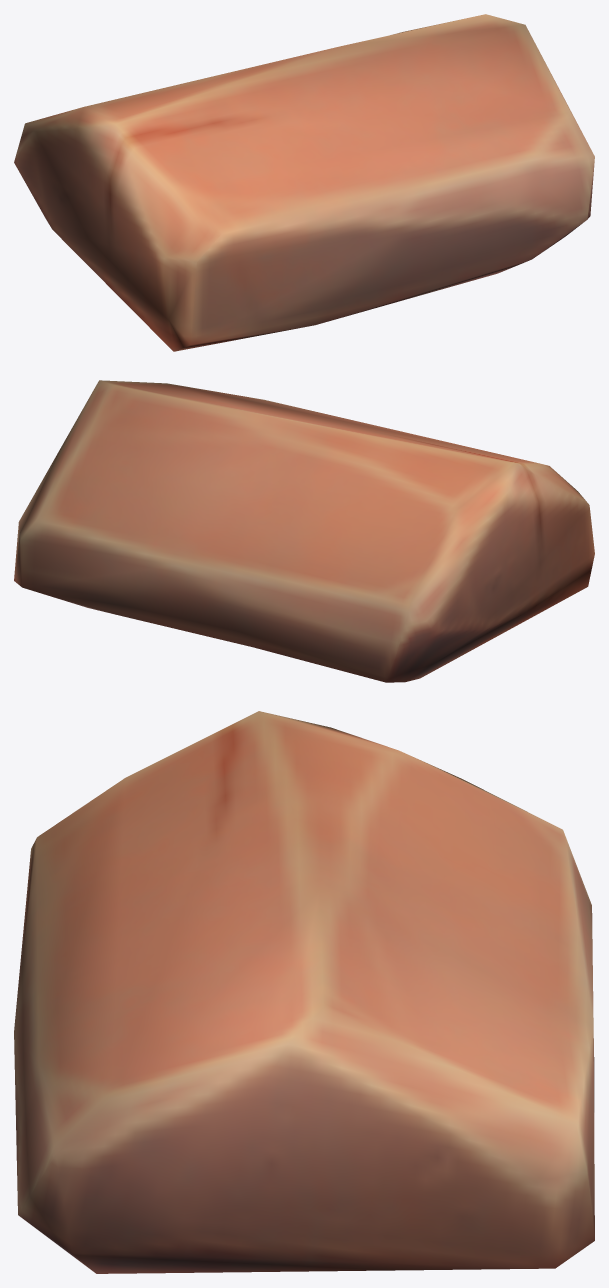
Rendered from SM_Gem_Copper_Piece.fbx.
3 renders of one model, top to bottom at view 1: azimuth 30°, elevation 25°; view 2: azimuth 150°, elevation 25°; view 3: azimuth 270°, elevation 25°, orthographic. The views are drawn at different scales.
Parts seen in each view (by area): view 1: SM_Gem_Copper_Piece; view 2: SM_Gem_Copper_Piece; view 3: SM_Gem_Copper_Piece.
Part boxes in pixels (x1,y1,x2,y2): SM_Gem_Copper_Piece: (14,14,594,351); SM_Gem_Copper_Piece: (14,380,594,682); SM_Gem_Copper_Piece: (14,711,594,1273).
Bounding box in the file's own units: 22 × 8.73 × 16.3.
